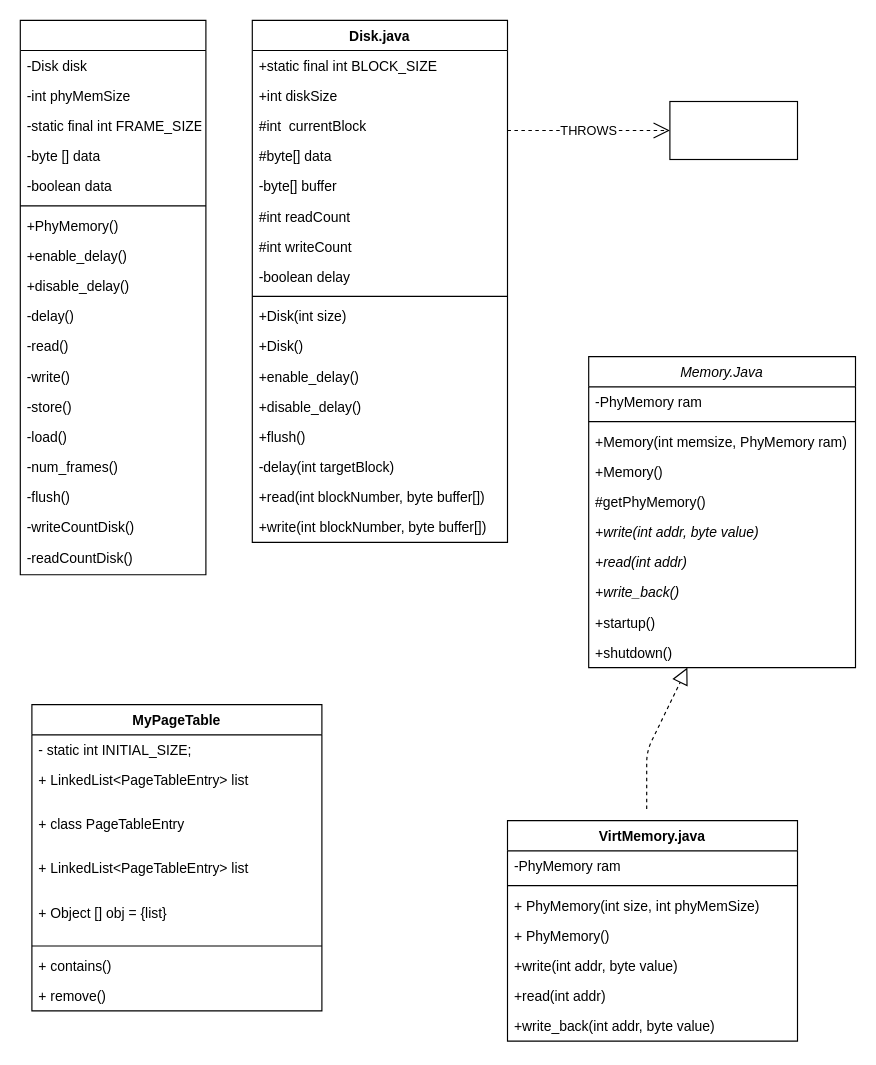
Image size: 876x1065. Some labels were removed from this diagram. The box of each missing label's shape, as (x1, y1, x2, y2) in pixels:
DiskException: (669, 100, 798, 160)
PhyMemory.java: (19, 19, 206, 575)
